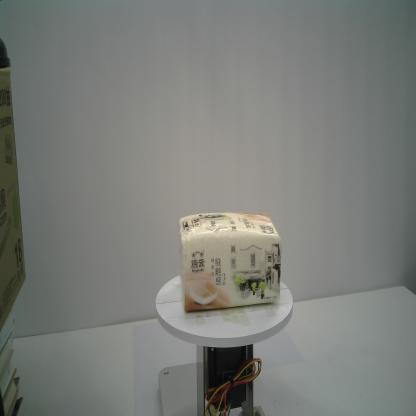Tissue: (178, 208, 282, 314)
